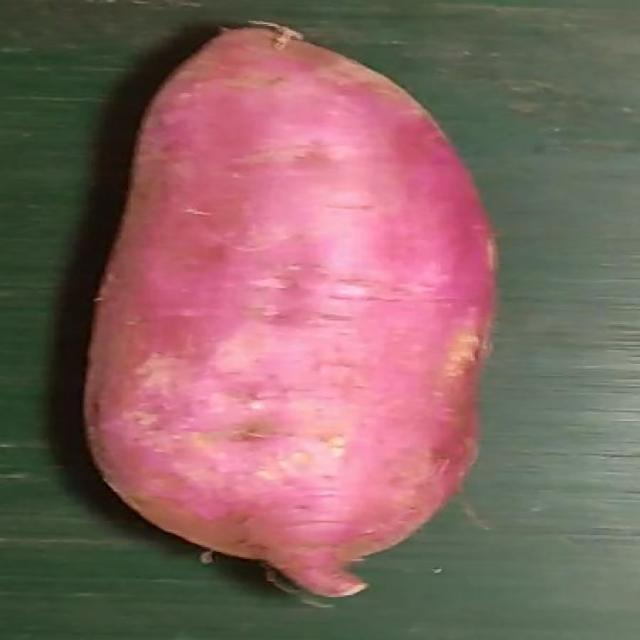Sweet Potato: (81, 24, 496, 601)
